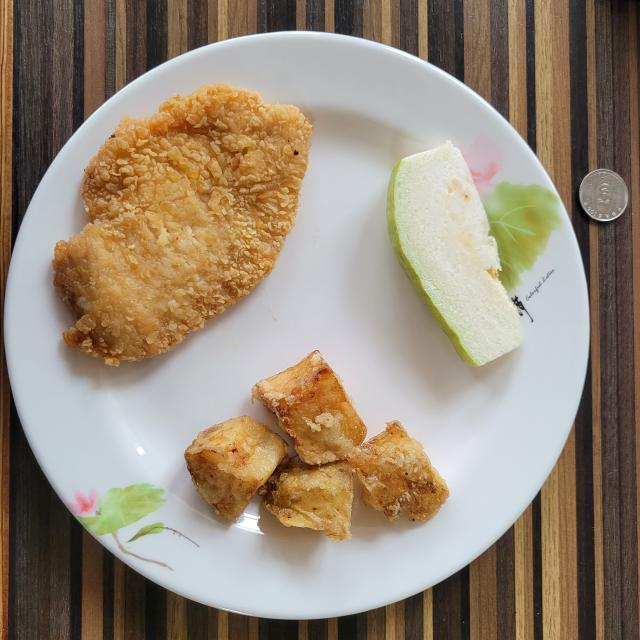coin: (579, 169, 629, 221)
fried chicken cutlet: (52, 84, 312, 365)
fried potato: (185, 351, 449, 541)
guava -sliced-: (388, 141, 524, 366)
